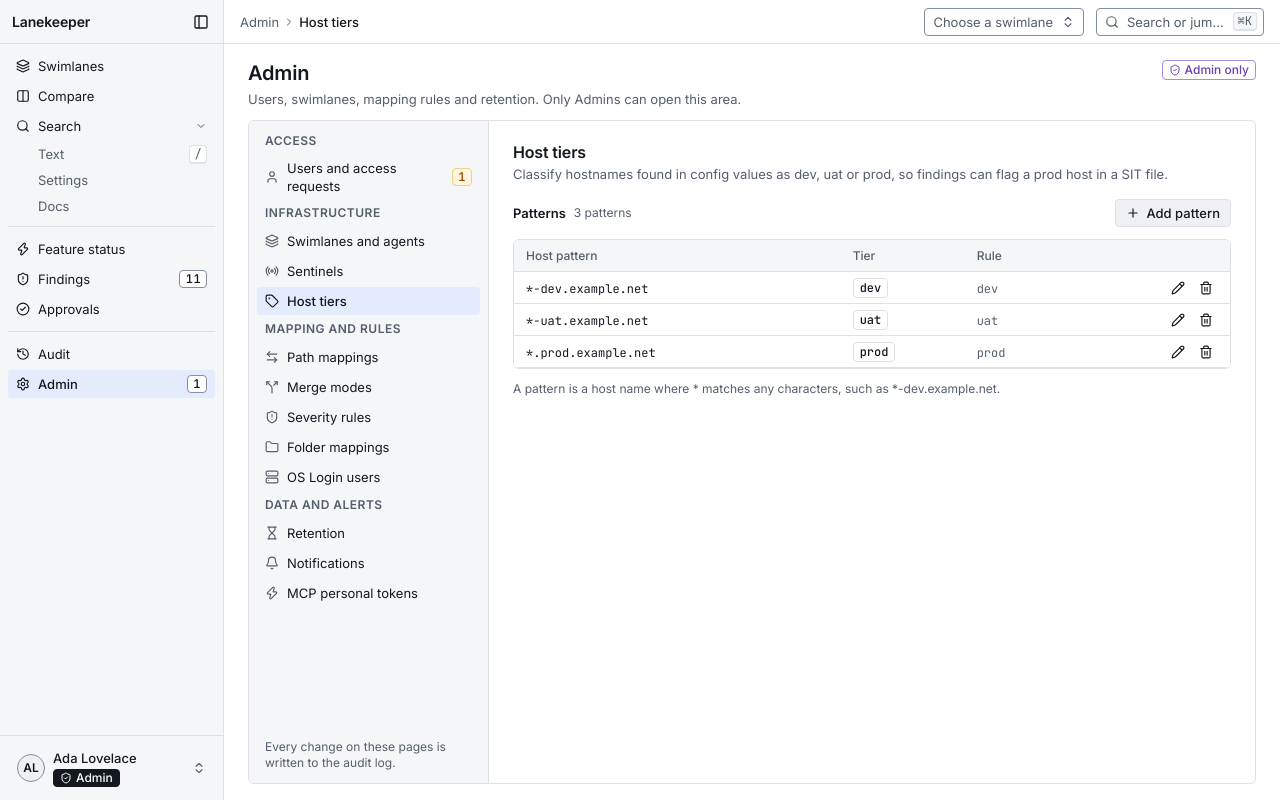
Test: adding, changing and deleting › deletes a pattern after saying that its hosts become unclassified
Expected: the heading "Admin" is shown, x1=248 y1=61 x2=309 y2=85
Click the button named "Delete pattern prod".
click(1206, 352)  # box x1=1194 y1=340 x2=1218 y2=364
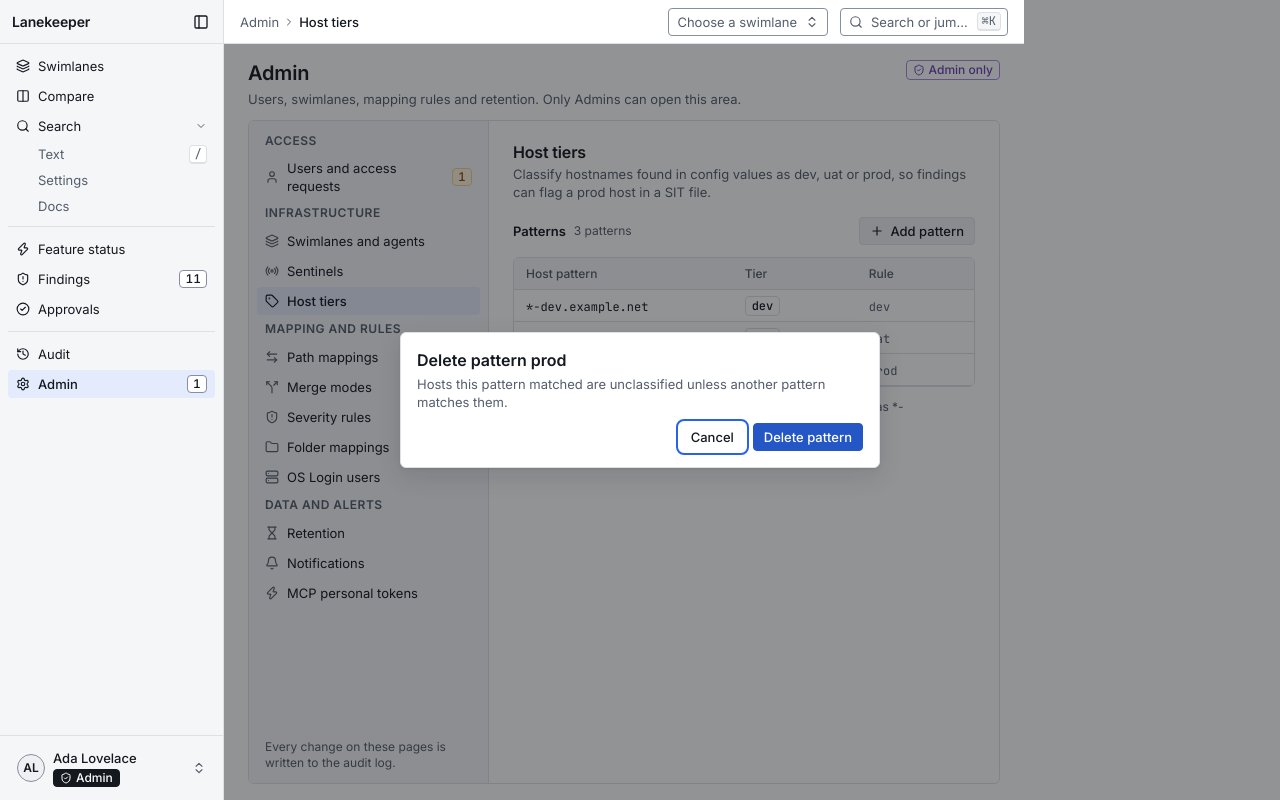
Result: the text "Hosts this pattern matched are unclassified unless another pattern matches them" is shown at x1=417 y1=376 x2=825 y2=410
Click the button "Delete pattern".
click(808, 437)  # box x1=753 y1=423 x2=863 y2=451
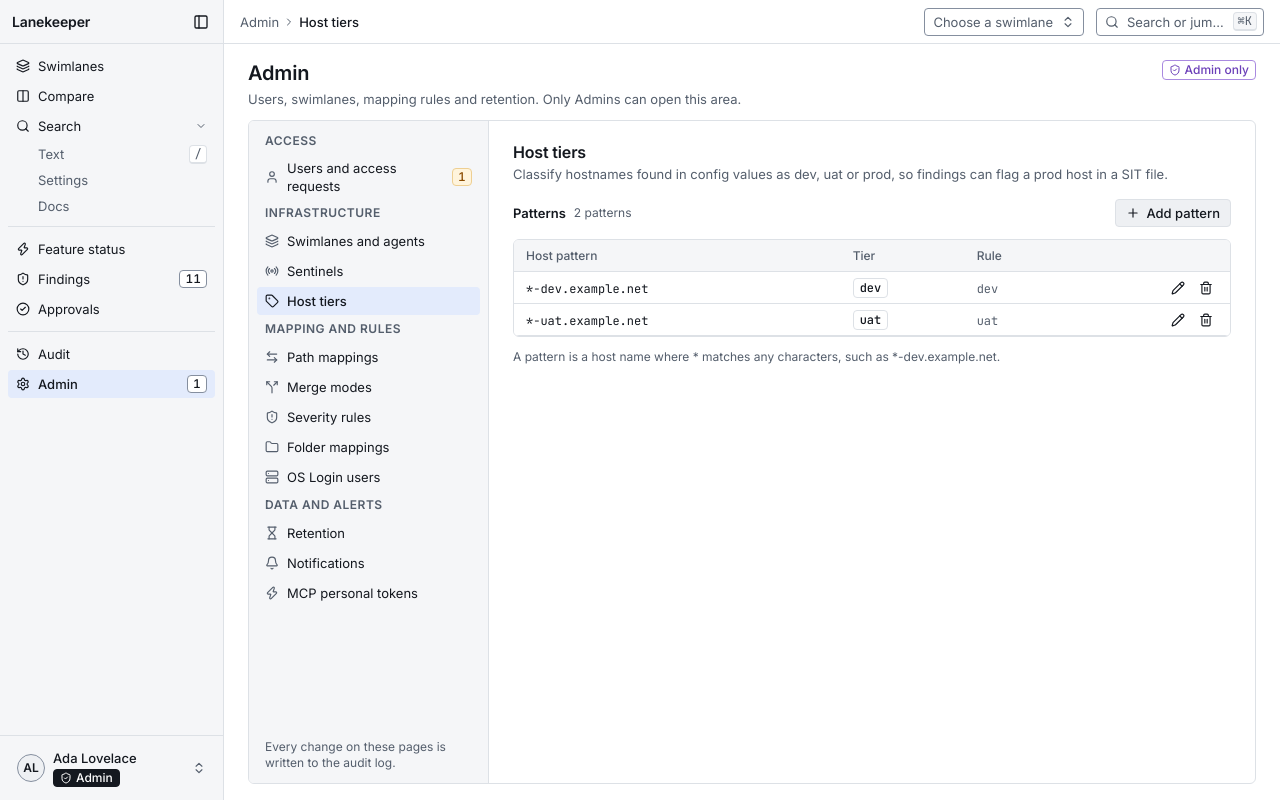
Result: the dialog is gone
Result: the text "2 patterns" is shown at x1=574 y1=205 x2=632 y2=221
